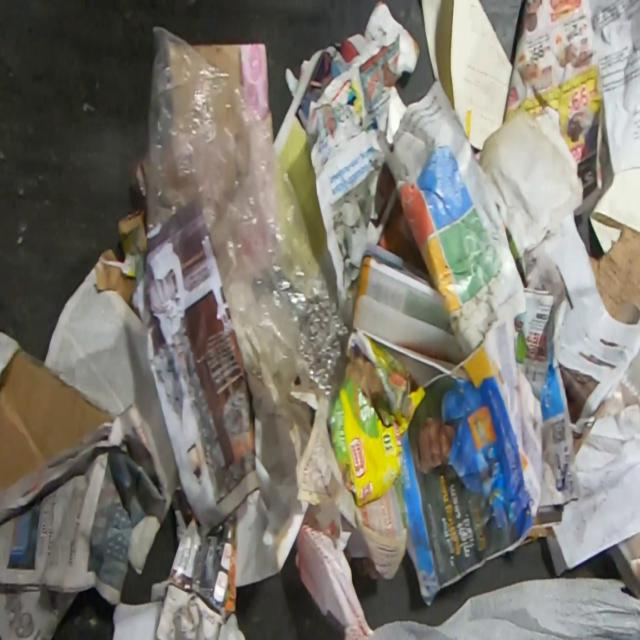cardboard: (43, 207, 181, 498), (327, 331, 428, 506), (0, 348, 117, 495), (150, 482, 238, 639), (193, 44, 274, 138), (588, 223, 640, 325)
soft_plastic: (142, 24, 350, 407), (603, 347, 639, 420)
